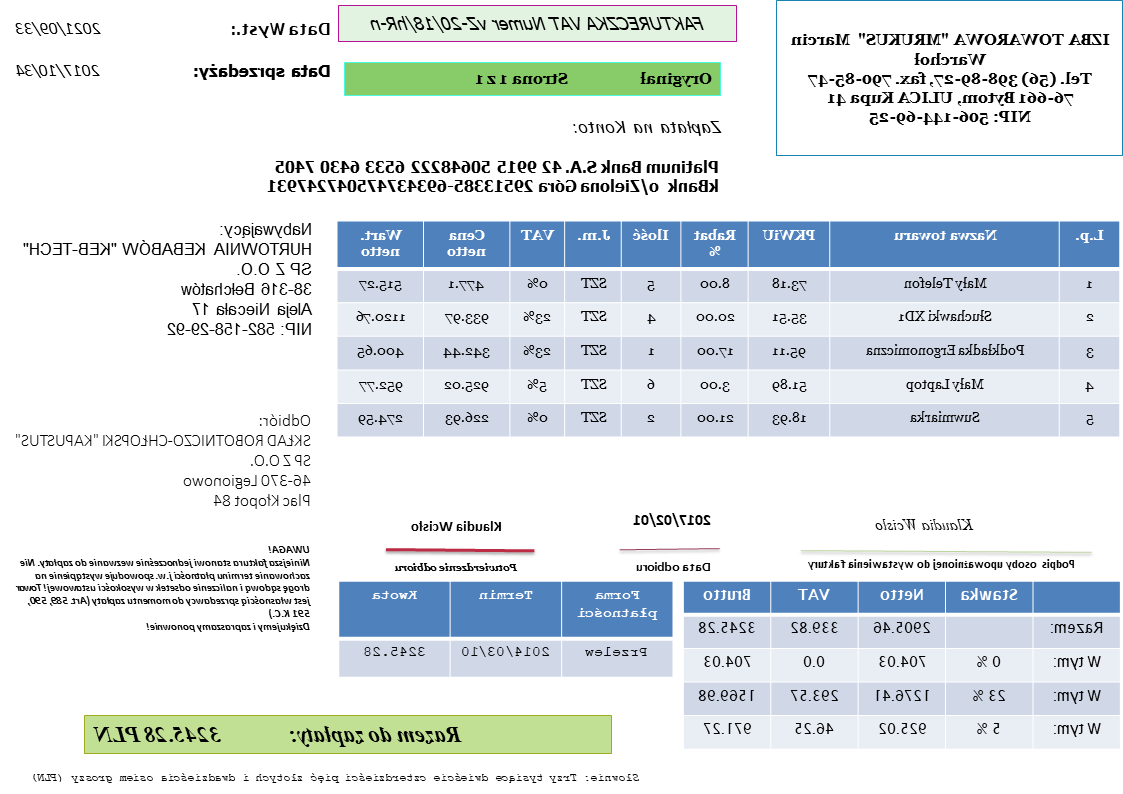Table: (336, 219, 1121, 439), (684, 580, 1122, 751), (337, 579, 675, 679)
TextBox: (19, 219, 314, 339), (790, 28, 1113, 130), (12, 411, 313, 512), (12, 541, 314, 636), (266, 157, 723, 196), (92, 722, 464, 750), (29, 770, 643, 785), (366, 12, 708, 35), (473, 66, 715, 90), (804, 556, 1077, 573), (570, 115, 724, 139), (190, 59, 335, 84), (228, 18, 332, 41), (873, 513, 977, 534), (14, 17, 104, 40), (392, 559, 520, 575), (14, 59, 103, 80), (630, 510, 715, 530), (410, 518, 506, 535), (636, 559, 714, 574)
